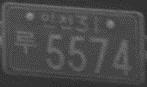1: (92, 14, 101, 37)
3: (75, 13, 90, 34)
4: (111, 38, 134, 78)
5: (67, 34, 88, 73), (44, 33, 66, 70)
7: (87, 36, 109, 74)
루: (14, 29, 37, 56)
인천_O: (39, 10, 75, 32)
